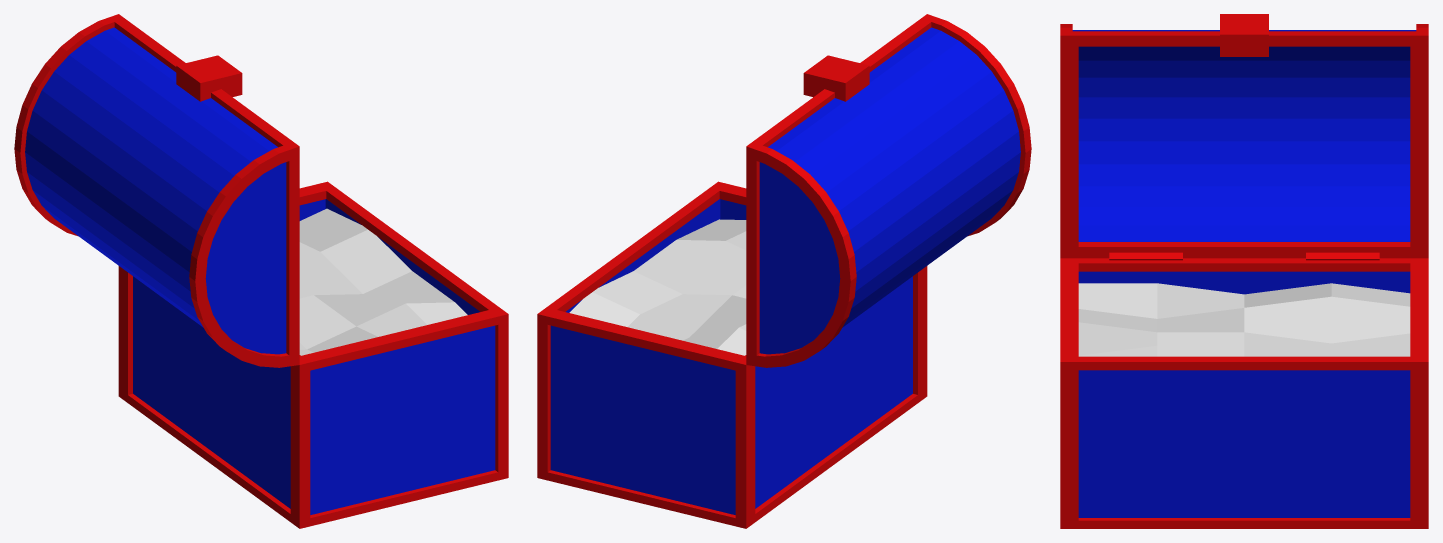
File: chest.fbx
3 views of the same model, side by side, from view 1: azimuth 30°, elevation 25°; view 2: azimuth 150°, elevation 25°; view 3: azimuth 270°, elevation 25° (orthographic).
Visible parts, largest first — view 1: Lid, Panels, Frame, Treasure; view 2: Lid, Panels, Frame, Treasure; view 3: Lid, Panels, Treasure, Frame, Left, Right.
Part boxes in pixels (left/top/right/bottom): Lid: left=14, top=14, right=299, bottom=367; Panels: left=133, top=199, right=495, bottom=514; Frame: left=118, top=181, right=508, bottom=528; Treasure: left=299, top=208, right=467, bottom=355; Lid: left=746, top=14, right=1031, bottom=367; Panels: left=550, top=199, right=912, bottom=514; Frame: left=537, top=181, right=927, bottom=528; Treasure: left=569, top=219, right=746, bottom=355; Lid: left=1060, top=14, right=1428, bottom=258; Panels: left=1078, top=271, right=1410, bottom=517; Treasure: left=1078, top=283, right=1410, bottom=356; Frame: left=1060, top=258, right=1428, bottom=528; Left: left=1109, top=252, right=1182, bottom=260; Right: left=1306, top=252, right=1379, bottom=260.
Bounding box in the file's own units: 300 × 360 × 300.
